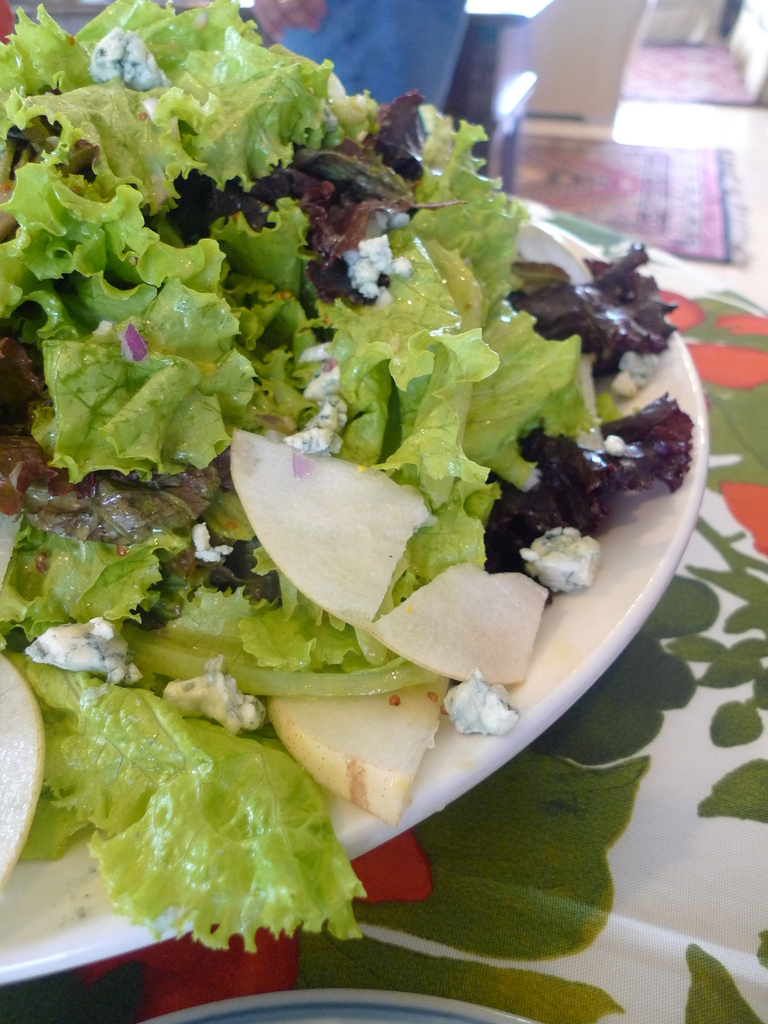salad: (0, 0, 700, 966)
